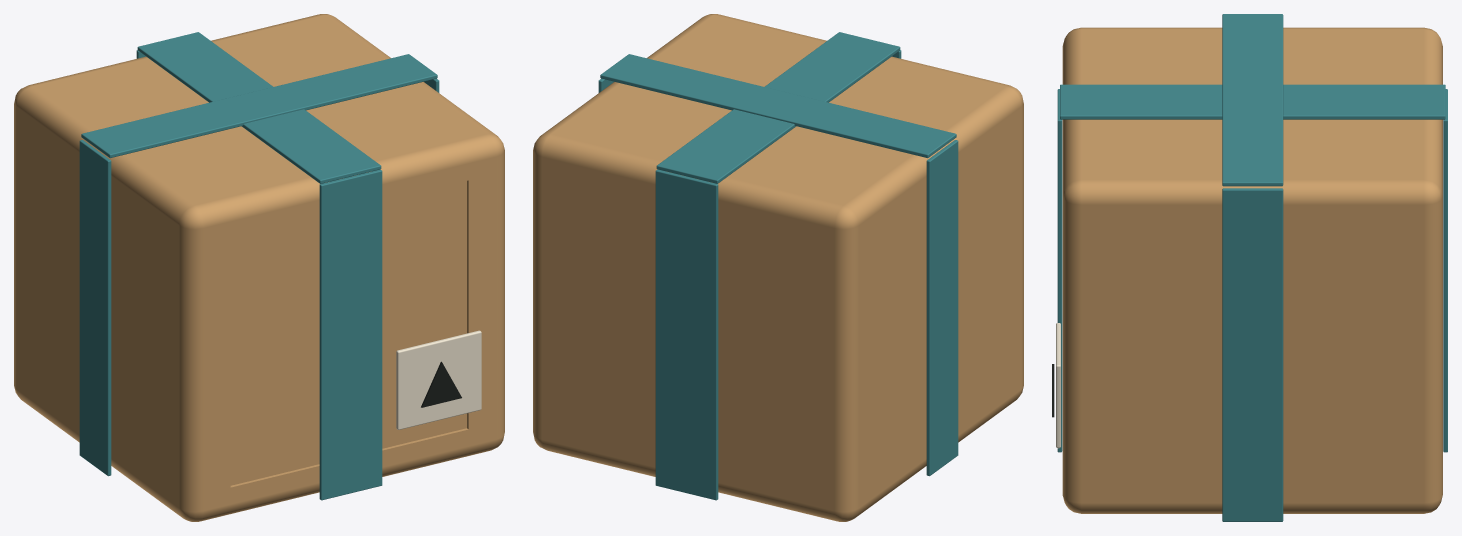
File: play-parcel-small-teal.glb
3 renders of one model, left to right at view 1: azimuth 30°, elevation 25°; view 2: azimuth 150°, elevation 25°; view 3: azimuth 270°, elevation 25°, orthographic. The views are drawn at different scales.
Parts seen in each view (by area): view 1: Parcel_Carton, Parcel_Tape_Front_Back_007, Parcel_Tape_Top_Cross, Parcel_Tape_Sides_-00725, Parcel_Tape_Top_Length, Parcel_Paper_Label, Parcel_Label_Triangle; view 2: Parcel_Carton, Parcel_Tape_Front_Back_-007, Parcel_Tape_Top_Cross, Parcel_Tape_Sides_-00725, Parcel_Tape_Top_Length; view 3: Parcel_Carton, Parcel_Tape_Sides_00725, Parcel_Tape_Top_Length, Parcel_Tape_Top_Cross, Parcel_Tape_Front_Back_-007, Parcel_Tape_Front_Back_007, Parcel_Paper_Label.
Boxes of the visible parts, box(x1,y1,x2,y2) form: Parcel_Carton: box(14, 14, 504, 521); Parcel_Tape_Front_Back_007: box(319, 169, 382, 500); Parcel_Tape_Top_Cross: box(81, 54, 437, 158); Parcel_Tape_Sides_-00725: box(79, 140, 111, 476); Parcel_Tape_Top_Length: box(137, 32, 381, 183); Parcel_Paper_Label: box(396, 330, 481, 429); Parcel_Label_Triangle: box(421, 361, 461, 407); Parcel_Carton: box(533, 14, 1023, 521); Parcel_Tape_Front_Back_-007: box(655, 169, 718, 500); Parcel_Tape_Top_Cross: box(600, 54, 956, 158); Parcel_Tape_Sides_-00725: box(926, 140, 958, 476); Parcel_Tape_Top_Length: box(656, 32, 900, 183); Parcel_Carton: box(1062, 27, 1442, 513); Parcel_Tape_Sides_00725: box(1222, 188, 1283, 521); Parcel_Tape_Top_Length: box(1060, 84, 1445, 119); Parcel_Tape_Top_Cross: box(1222, 14, 1283, 186); Parcel_Tape_Front_Back_-007: box(1443, 89, 1447, 452); Parcel_Tape_Front_Back_007: box(1057, 89, 1062, 452); Parcel_Paper_Label: box(1056, 323, 1060, 448).
Bounding box in the file's own units: 0.1487 × 0.1377 × 0.1457.
